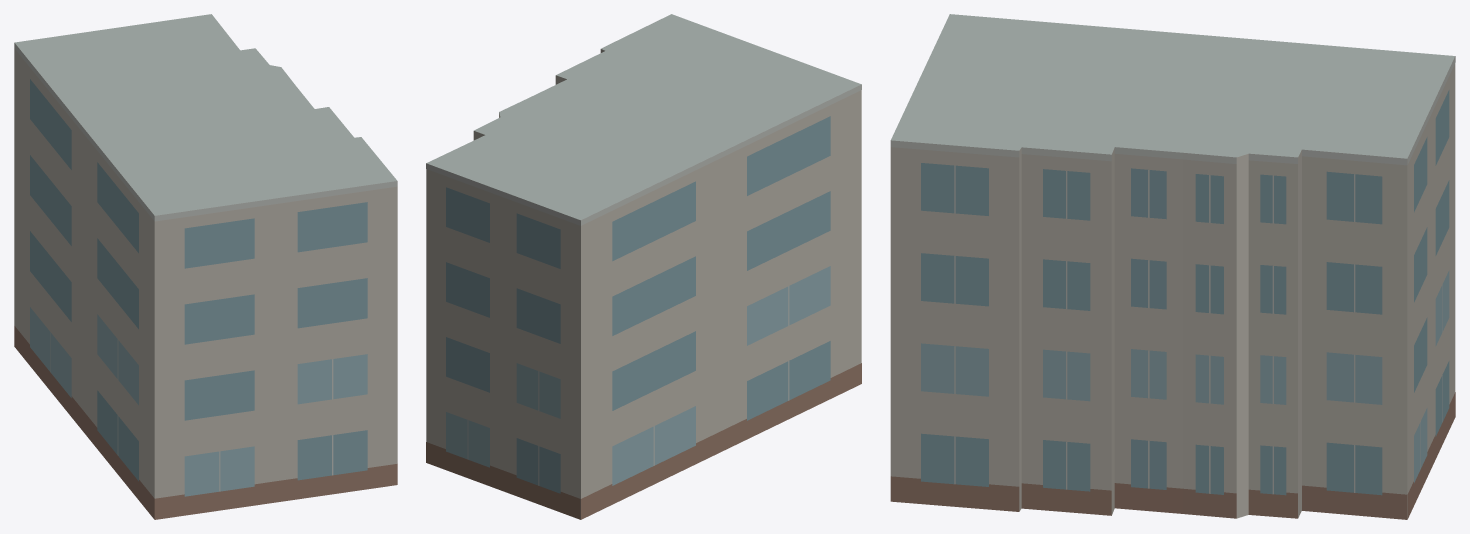
File: survey-upis-32614677.glb
3 views of the same model, side by side, from view 1: azimuth 30°, elevation 25°; view 2: azimuth 150°, elevation 25°; view 3: azimuth 270°, elevation 25° (orthographic). The views are drawn at different scales.
Parts seen in each view (by area): view 1: survey-upis-32614677.tmp; view 2: survey-upis-32614677.tmp; view 3: survey-upis-32614677.tmp.
Part boxes in pixels (x1,y1,x2,y2): survey-upis-32614677.tmp: [14, 14, 397, 519]; survey-upis-32614677.tmp: [426, 14, 861, 519]; survey-upis-32614677.tmp: [890, 14, 1455, 519].
Bounding box in the file's own units: 11.27 × 13.1 × 18.57.
